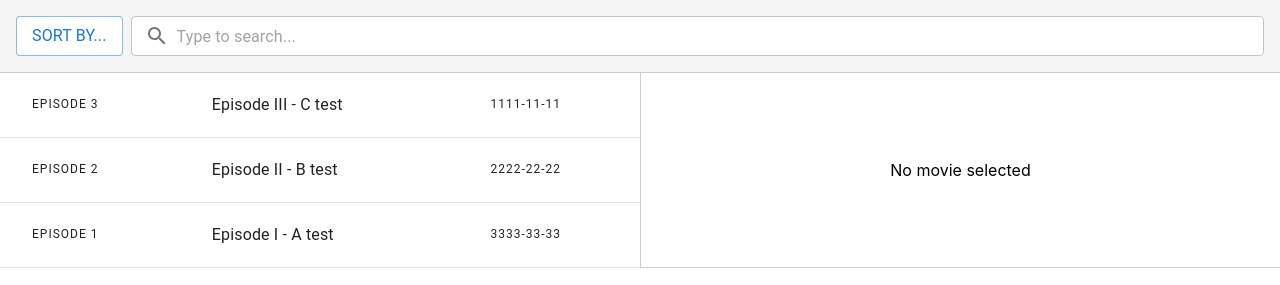
Scenario: notifies the user if no results are found
Expected: the text "Episode I - A test" is shown, [212,225,334,244]
Expected: the text "Episode II - B test" is shown, [212,160,338,179]
Type "this should not be found" into the field with placeholder "Type to search..." at x=720, y=36, box [177,16,1264,56]
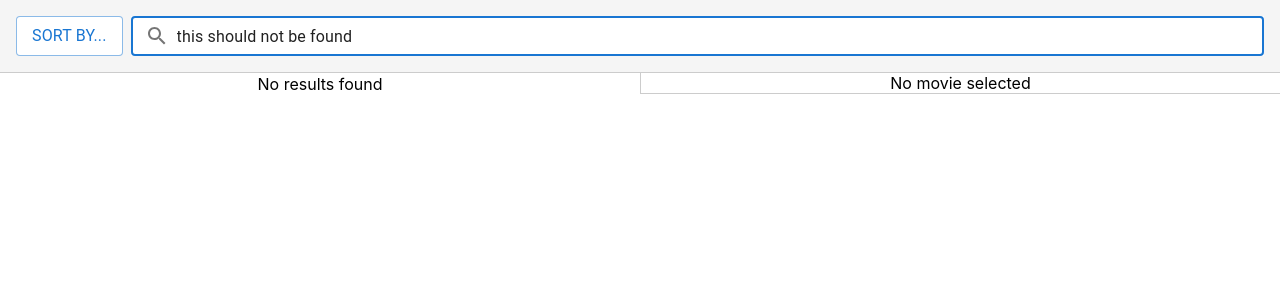
Expected: the text "No results found" is shown, [258,74,382,94]
